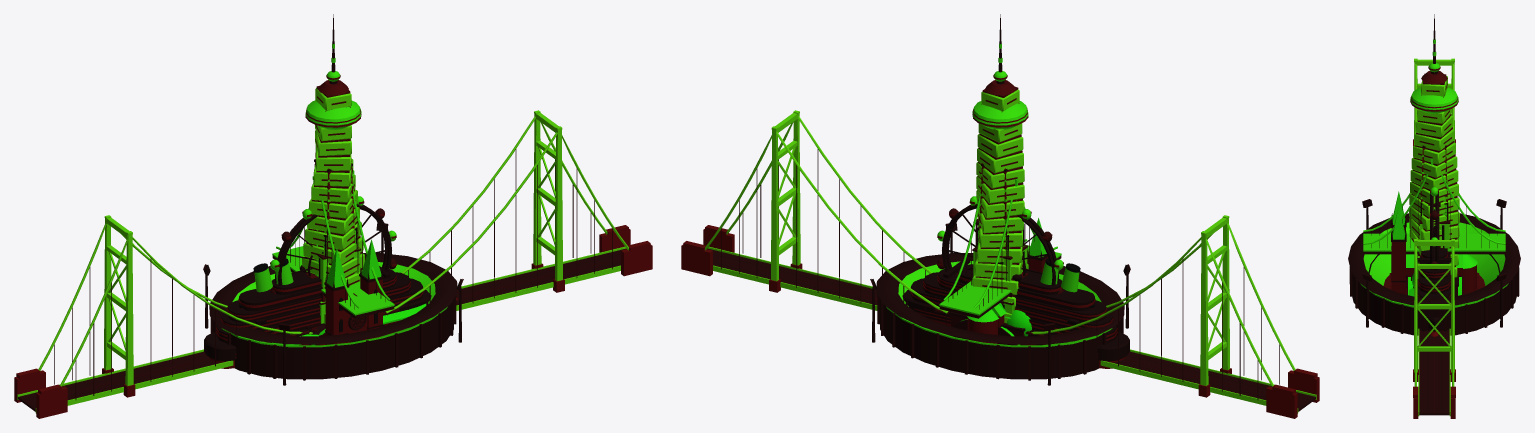
3 views of the same model, side by side, from view 1: azimuth 30°, elevation 25°; view 2: azimuth 150°, elevation 25°; view 3: azimuth 270°, elevation 25° (orthographic). The views are drawn at different scales.
Parts seen in each view (by area): view 1: suspension_bridge, stadium, skyscraper_twist, cruise_ship, cathedral, bridge_tower, big_wheel, observation_tower; view 2: suspension_bridge, stadium, skyscraper_twist, cruise_ship, bridge_tower, big_wheel, observation_tower, cathedral; view 3: stadium, skyscraper_twist, suspension_bridge, bridge_tower, cathedral, cruise_ship, observation_tower, big_wheel, skyscraper_deco, skyscraper_spire, hangar.
Boxes of the visible parts, bbox=[...] form: suspension_bridge: bbox=[14, 110, 652, 418]; stadium: bbox=[203, 222, 463, 385]; skyscraper_twist: bbox=[302, 80, 364, 323]; cruise_ship: bbox=[204, 258, 457, 368]; cathedral: bbox=[324, 239, 384, 344]; bridge_tower: bbox=[272, 170, 394, 318]; big_wheel: bbox=[270, 196, 396, 293]; observation_tower: bbox=[305, 14, 361, 129]; suspension_bridge: bbox=[681, 110, 1319, 418]; stadium: bbox=[870, 222, 1130, 385]; skyscraper_twist: bbox=[972, 80, 1028, 323]; cruise_ship: bbox=[876, 258, 1129, 368]; bridge_tower: bbox=[939, 178, 1061, 318]; big_wheel: bbox=[937, 196, 1063, 293]; observation_tower: bbox=[972, 14, 1028, 129]; cathedral: bbox=[967, 218, 1048, 343]; stadium: bbox=[1348, 199, 1520, 335]; skyscraper_twist: bbox=[1409, 71, 1459, 277]; suspension_bridge: bbox=[1413, 58, 1455, 418]; bridge_tower: bbox=[1363, 158, 1505, 254]; cathedral: bbox=[1391, 191, 1477, 294]; cruise_ship: bbox=[1417, 246, 1451, 336]; observation_tower: bbox=[1410, 14, 1458, 113]; big_wheel: bbox=[1430, 187, 1438, 270]; skyscraper_deco: bbox=[1419, 195, 1451, 269]; skyscraper_spire: bbox=[1419, 145, 1448, 239]; hangar: bbox=[1406, 276, 1463, 295].
Size of what is drawn, in the model's own units: 600 by 300 by 170.
